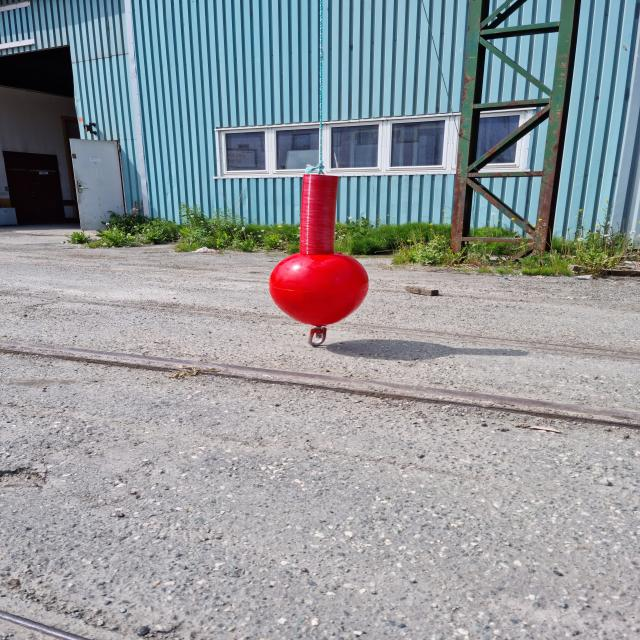red: (271, 173, 369, 325)
